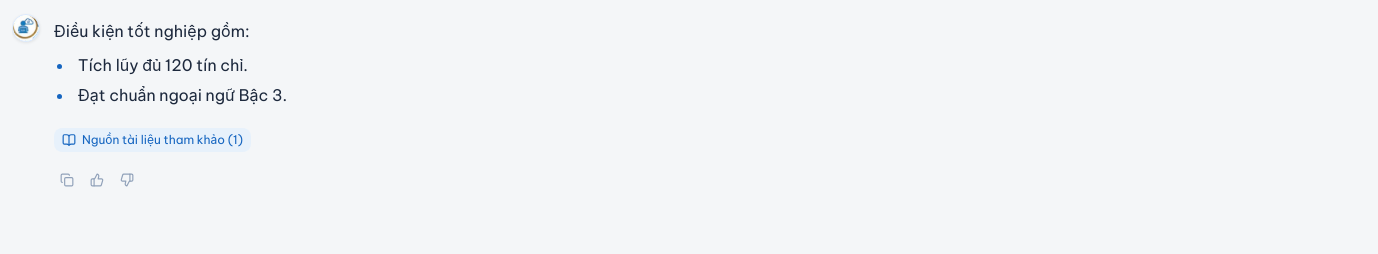
Sửa 3 Lỗi Chat Flow & Giao diện › Lỗi 2: Bỏ chuỗi Nguồn trong câu trả lời, hiển thị qua nút Nguồn tài liệu tham khảo › lọc bỏ các dòng Nguồn: và URL cs.lhu.edu.vn khỏi nội dung hiển thị
Expected: the text "Nguồn tài liệu tham khảo (1)" is shown, 82,132 -> 243,148
# Mở rộng phần nguồn và kiểm tra chi tiết
Click the button "Nguồn tài liệu tham khảo (1)" at (152, 140), box 54,128 -> 251,152
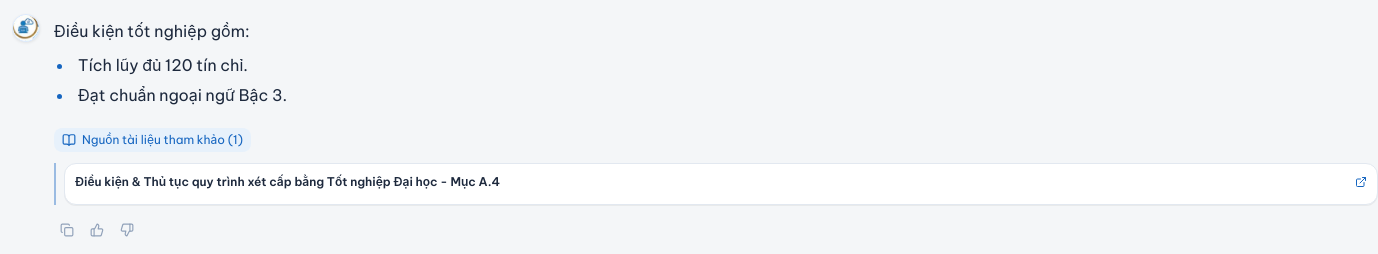
Result: the text "Điều kiện & Thủ tục quy trình xét cấp bằng Tốt nghiệp Đại học - Mục A.4" is shown at 75,174 -> 500,190
